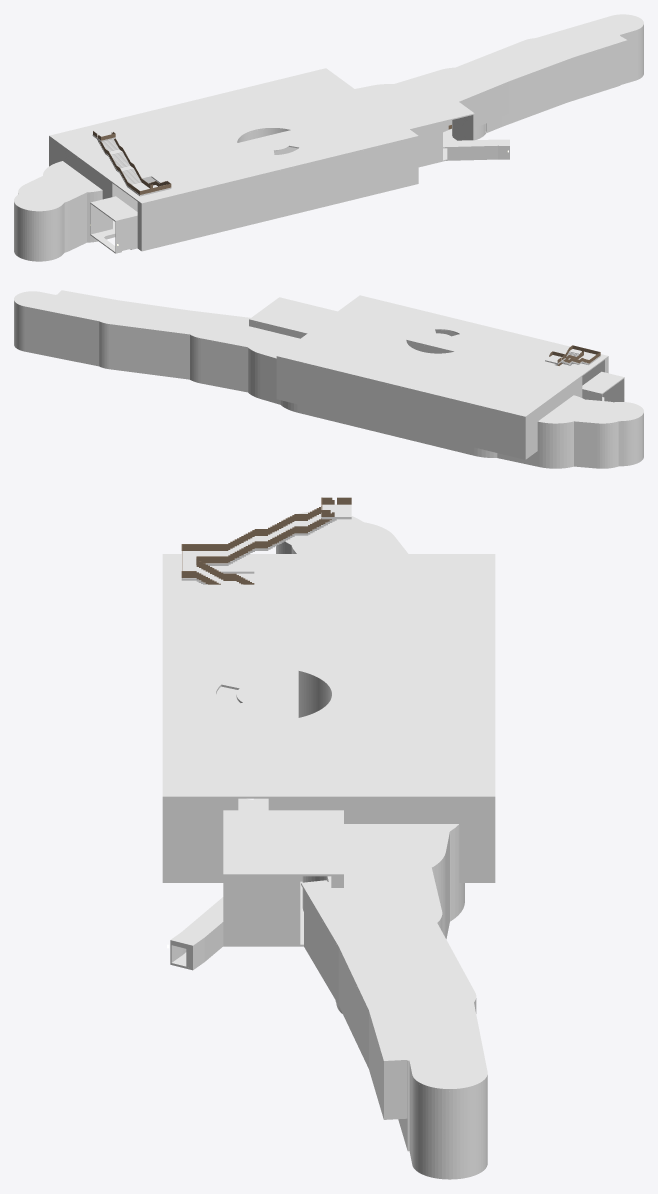
The picture shows the model from 3 angles, top to bottom: view 1: azimuth 30°, elevation 25°; view 2: azimuth 150°, elevation 25°; view 3: azimuth 270°, elevation 25°; orthographic projection. The views are drawn at different scales.
Visible parts, largest first — view 1: b2_ceiling_rock_ceiling, b2_wall_plaster, b2_floor_stone_floor, b2_stair_wood, b2_rail_rail, b2_basin_pool_tile; view 2: b2_ceiling_rock_ceiling, b2_wall_plaster, b2_basin_pool_tile, b2_floor_stone_floor, b2_rail_rail, b2_stair_wood; view 3: b2_ceiling_rock_ceiling, b2_wall_plaster, b2_rail_rail, b2_floor_stone_floor, b2_stair_wood.
Part boxes in pixels (left/top/right/bottom): b2_ceiling_rock_ceiling: left=14, top=14, right=643, bottom=221; b2_wall_plaster: left=14, top=25, right=643, bottom=260; b2_floor_stone_floor: left=14, top=72, right=643, bottom=261; b2_stair_wood: left=92, top=131, right=171, bottom=196; b2_rail_rail: left=93, top=125, right=451, bottom=194; b2_basin_pool_tile: left=69, top=63, right=634, bottom=249; b2_ceiling_rock_ceiling: left=14, top=290, right=643, bottom=424; b2_wall_plaster: left=14, top=301, right=643, bottom=467; b2_basin_pool_tile: left=217, top=371, right=623, bottom=466; b2_floor_stone_floor: left=14, top=345, right=643, bottom=468; b2_rail_rail: left=549, top=345, right=600, bottom=365; b2_stair_wood: left=545, top=349, right=600, bottom=368; b2_ceiling_rock_ceiling: left=162, top=511, right=495, bottom=1090; b2_wall_plaster: left=162, top=542, right=495, bottom=1177; b2_rail_rail: left=181, top=497, right=351, bottom=584; b2_floor_stone_floor: left=162, top=686, right=495, bottom=1179; b2_stair_wood: left=181, top=504, right=351, bottom=584.
Size of the model in its own units: 181 by 25.9 by 44.
